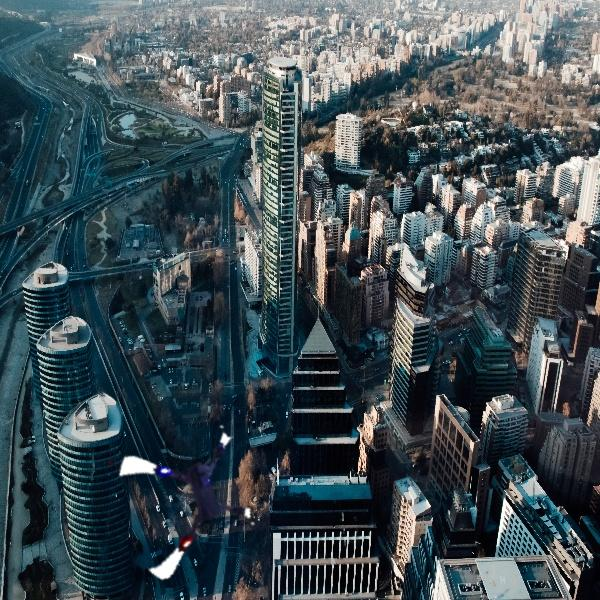drone: (116, 427, 263, 574)
